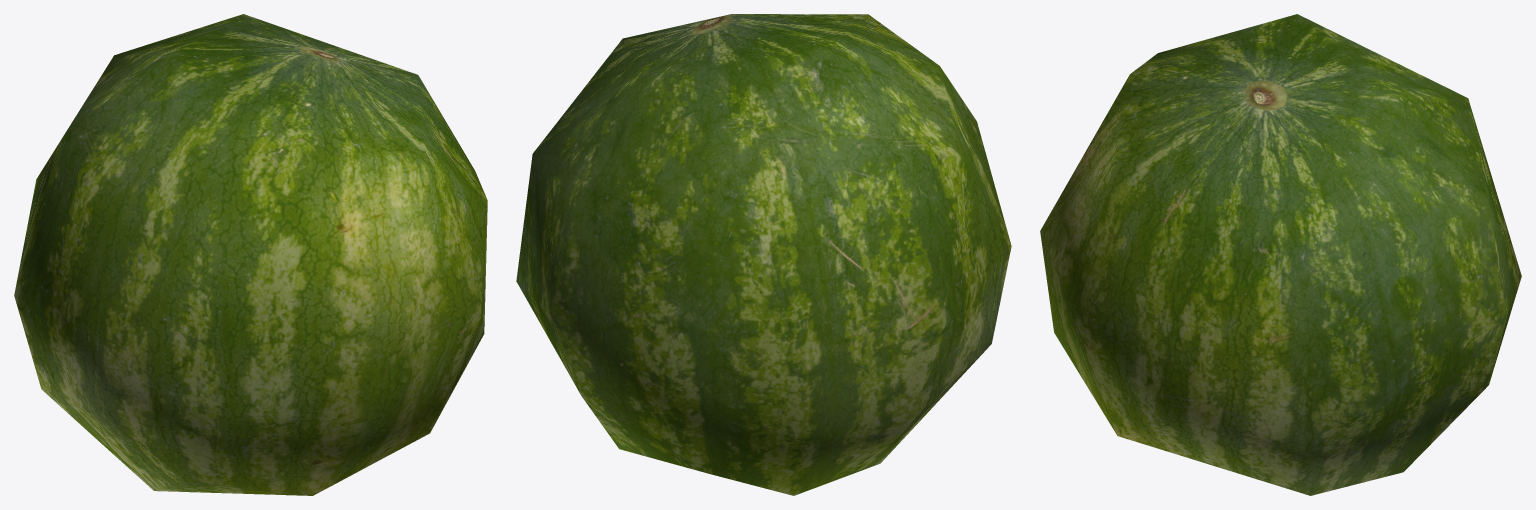
The model's file is watermelon.glb.
3 renders of one model, left to right at view 1: azimuth 30°, elevation 25°; view 2: azimuth 150°, elevation 25°; view 3: azimuth 270°, elevation 25°, orthographic. The views are drawn at different scales.
Parts seen in each view (by area): view 1: ujdjfddjw_LOD0_TIER3_000; view 2: ujdjfddjw_LOD0_TIER3_000; view 3: ujdjfddjw_LOD0_TIER3_000.
Part boxes in pixels (x1,y1,x2,y2): ujdjfddjw_LOD0_TIER3_000: (14,14,487,495); ujdjfddjw_LOD0_TIER3_000: (516,14,1011,495); ujdjfddjw_LOD0_TIER3_000: (1040,14,1521,495).
Bounding box in the file's own units: 0.136 × 0.1309 × 0.138.
1 material, 1 textured.
